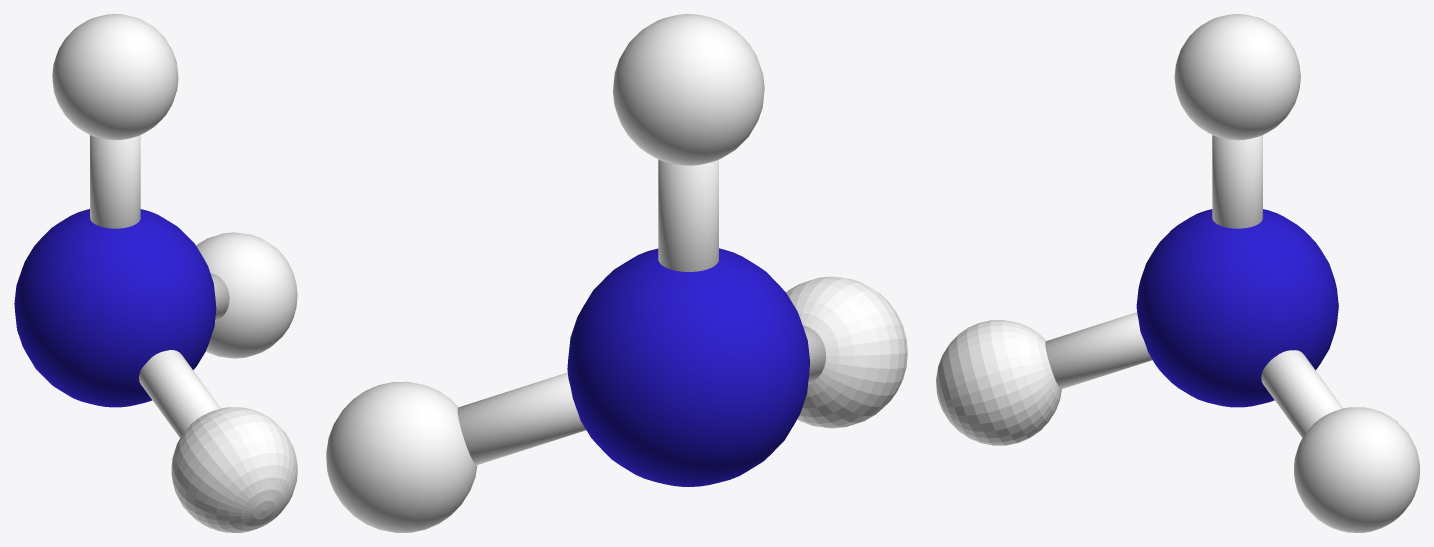
3 renders of one model, left to right at view 1: azimuth 30°, elevation 25°; view 2: azimuth 150°, elevation 25°; view 3: azimuth 270°, elevation 25°, orthographic. The views are drawn at different scales.
Visible parts, largest first — view 1: Sphere; view 2: Sphere; view 3: Sphere.
Part boxes in pixels (left/top/right/bottom): Sphere: left=14, top=14, right=297, bottom=532; Sphere: left=326, top=14, right=907, bottom=532; Sphere: left=936, top=14, right=1419, bottom=532.
Bounding box in the file's own units: 293 × 367 × 383.
